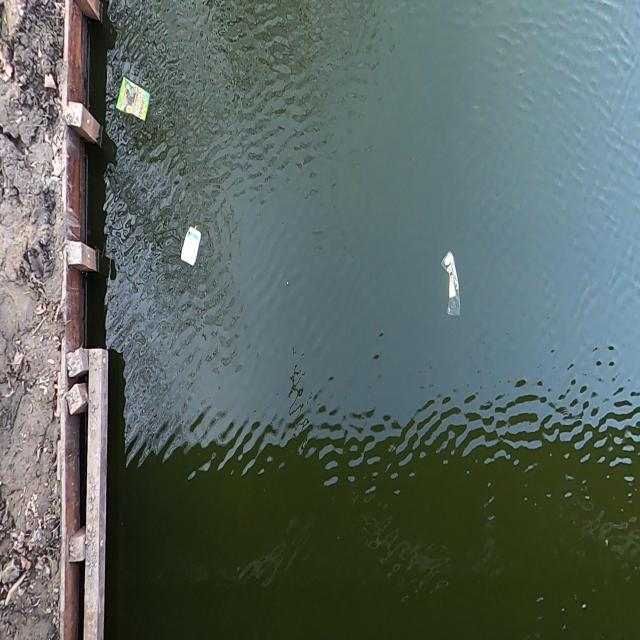Autre plastique: (113, 67, 154, 127), (178, 216, 205, 275)
Sac plastique: (440, 242, 463, 324)
